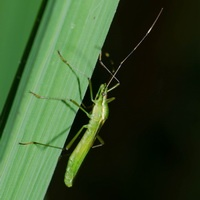insect: (30, 8, 162, 186)
